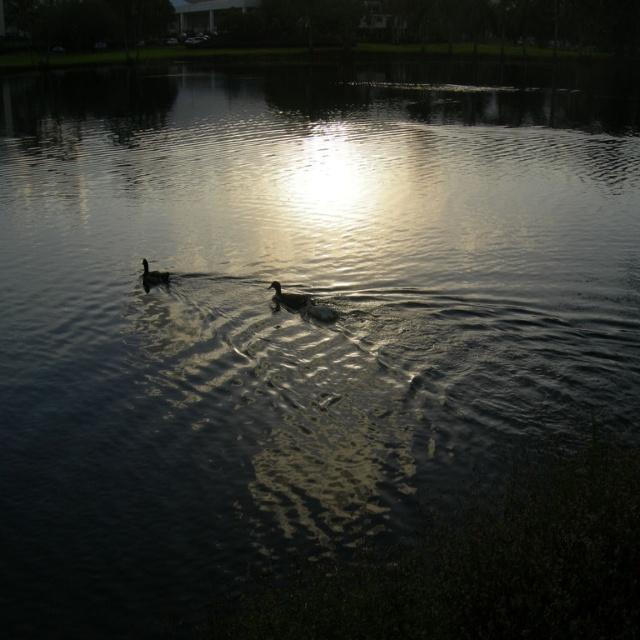Duck: (268, 282, 306, 308), (140, 261, 169, 287)
